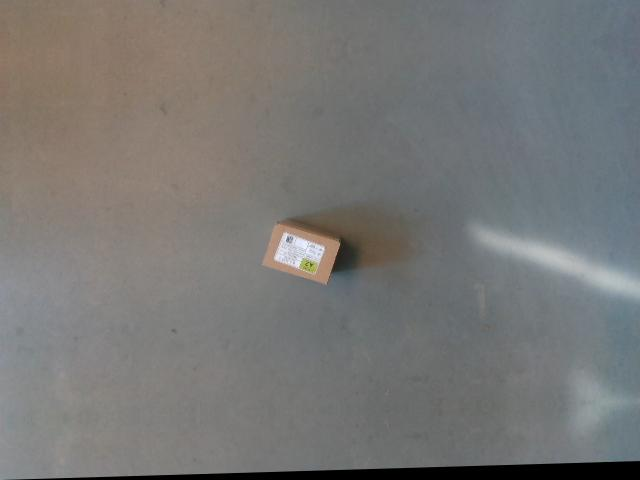label: (273, 232, 326, 276)
package: (261, 217, 341, 286)
